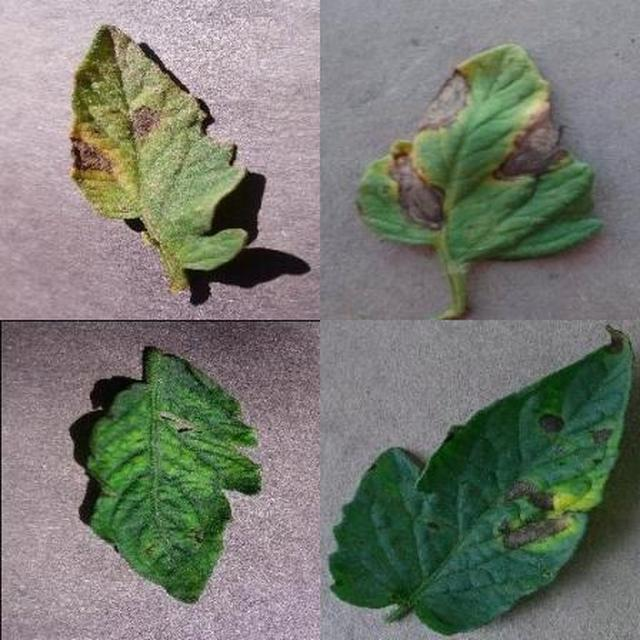Early Blight Leaf: (226, 210, 640, 640)
